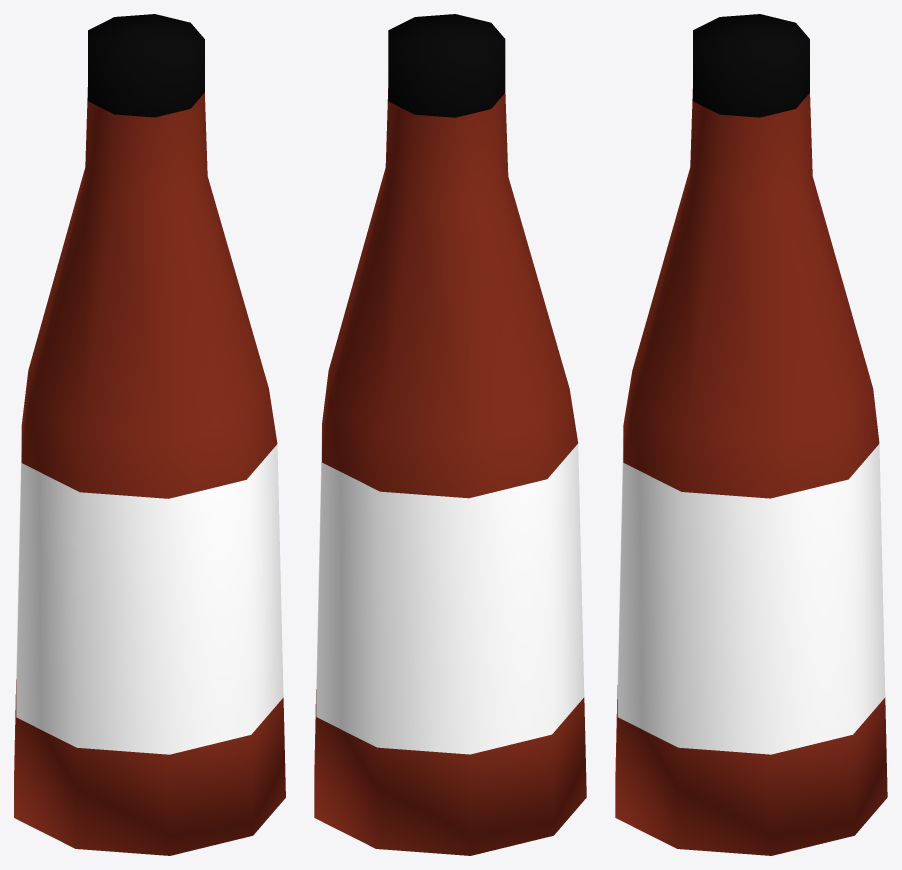
File: HotSauceRed.glb
3 renders of one model, left to right at view 1: azimuth 30°, elevation 25°; view 2: azimuth 150°, elevation 25°; view 3: azimuth 270°, elevation 25°, orthographic.
Parts seen in each view (by area): view 1: HotSauceRed; view 2: HotSauceRed; view 3: HotSauceRed.
Boxes of the visible parts, x1=… form: HotSauceRed: x1=14, y1=14, x2=285, y2=855; HotSauceRed: x1=314, y1=14, x2=586, y2=855; HotSauceRed: x1=615, y1=14, x2=887, y2=855.
Bounding box in the file's own units: 0.0985 × 0.3015 × 0.097.
1 material, 1 textured.
